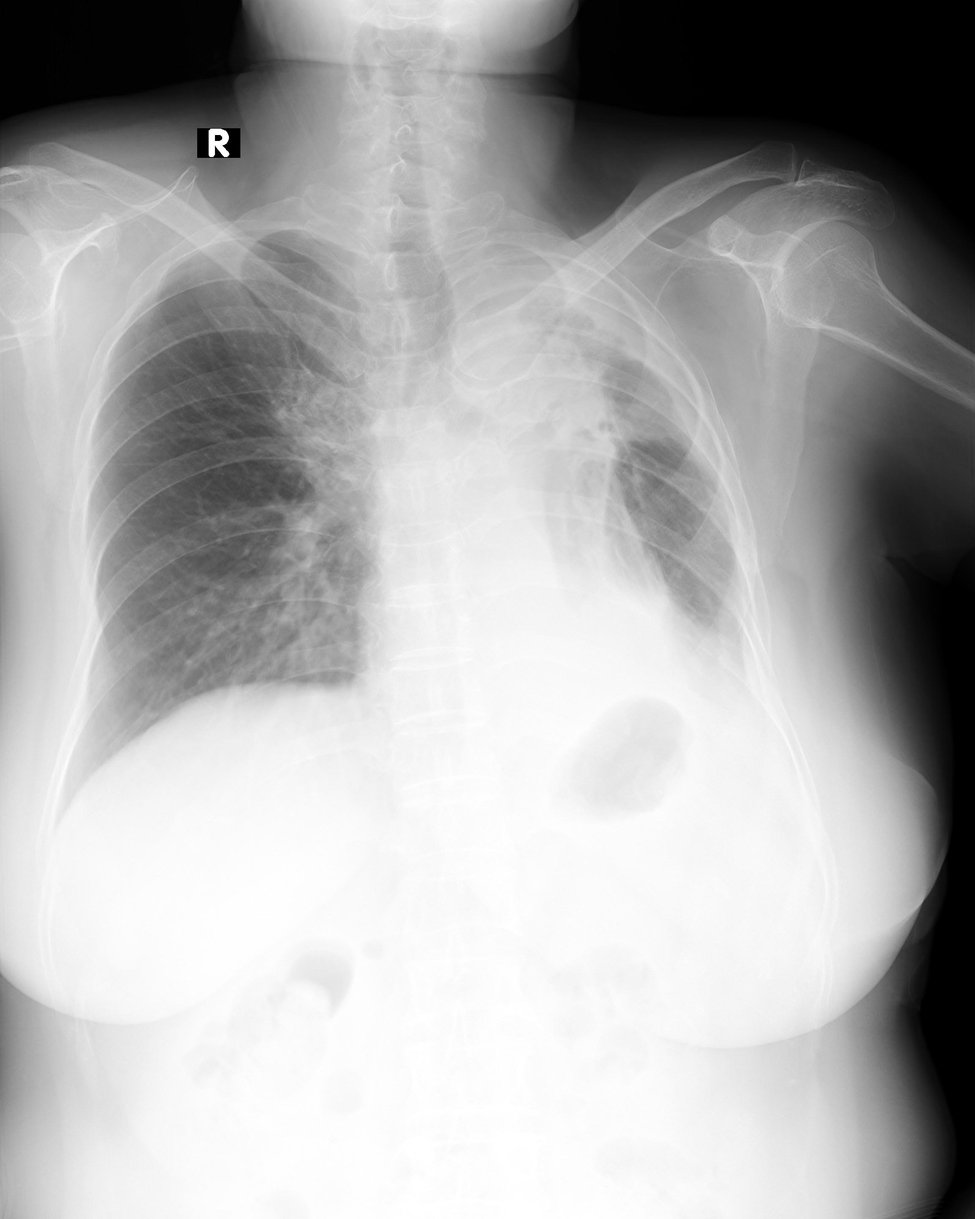Pleural thickening: (431, 234, 736, 621), (724, 608, 771, 735)
Pulmonary fibrosis: (431, 234, 736, 621)
